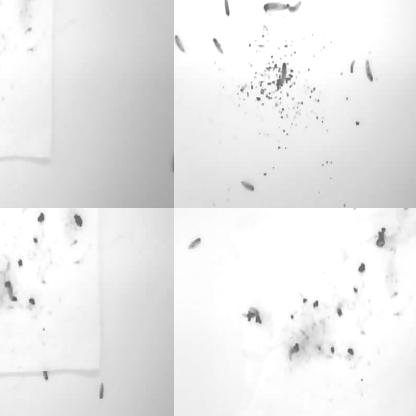PtecticusTenebrifer: (263, 2, 289, 13), (212, 36, 223, 56), (174, 34, 185, 53), (188, 236, 202, 250), (289, 0, 302, 14), (99, 382, 108, 402), (242, 179, 256, 191), (366, 59, 373, 82), (281, 62, 287, 88), (0, 346, 7, 365), (0, 223, 8, 238), (350, 58, 357, 75), (223, 0, 230, 16), (380, 208, 394, 216), (174, 93, 182, 106), (334, 208, 347, 216), (1, 0, 10, 11), (0, 54, 7, 68), (216, 0, 231, 6), (322, 0, 339, 5), (171, 149, 174, 176), (205, 208, 219, 213), (0, 103, 3, 126), (380, 208, 387, 217), (349, 208, 355, 217), (369, 0, 381, 4), (174, 0, 181, 5)
